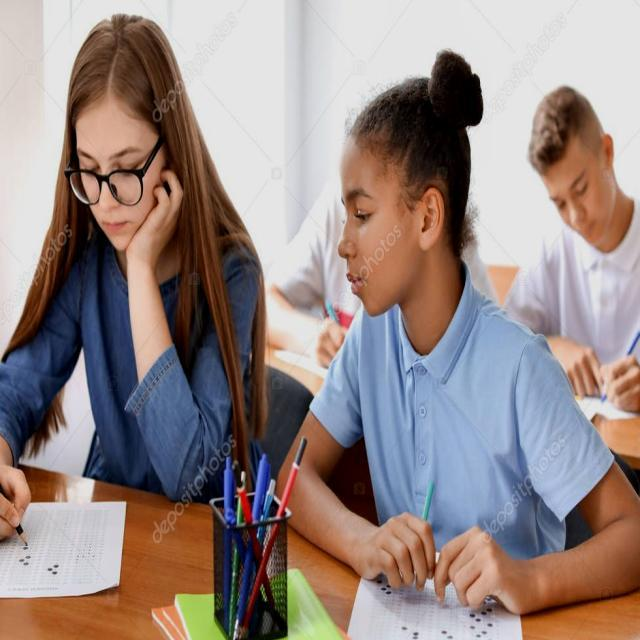cheating: (292, 47, 586, 640)
good: (0, 3, 257, 640)
